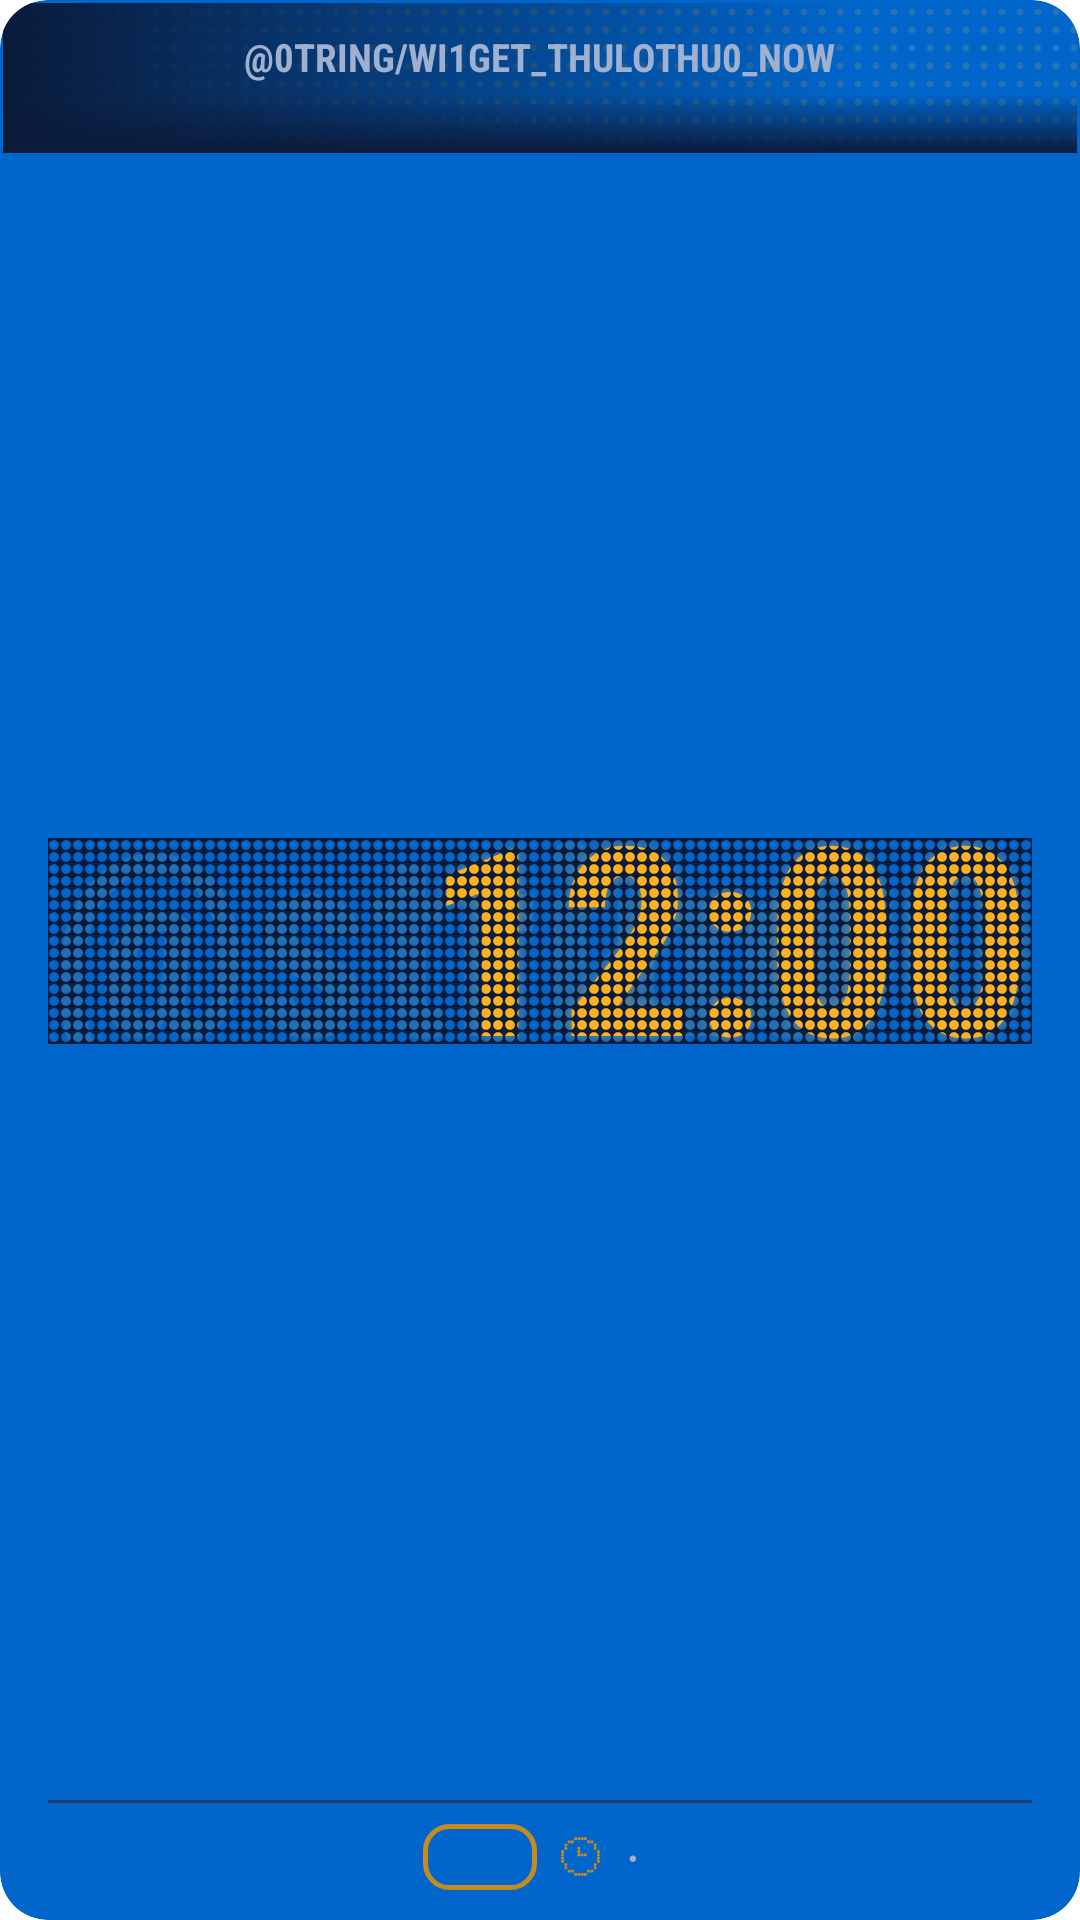

Where icons sit on this 1080*1920 app screen, as bbox=[x1, y1, x2, y2]:
widget clock dim: bbox=[561, 1837, 600, 1876]
